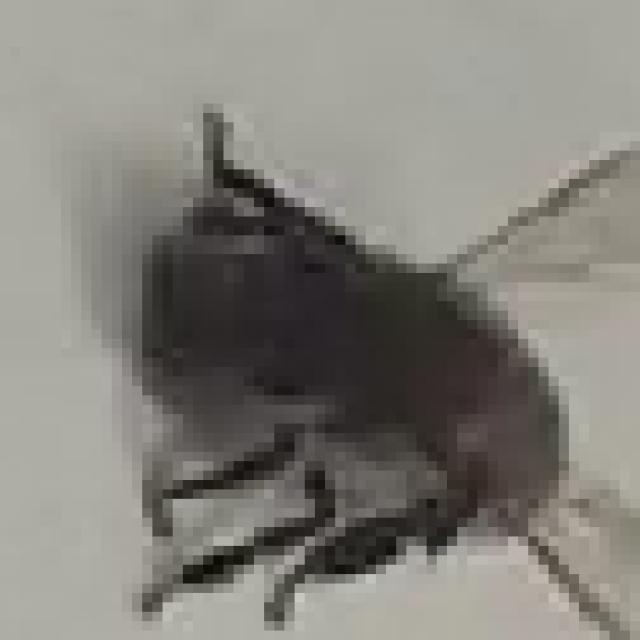honeybee: (86, 126, 604, 601)
